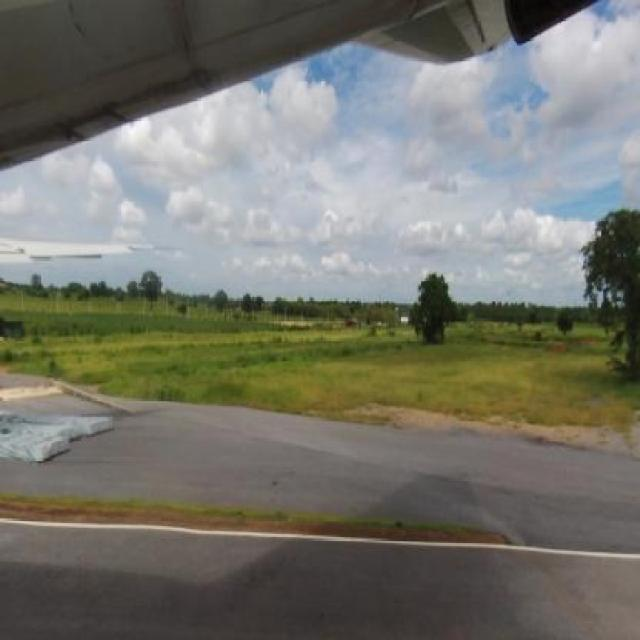Rust: (3, 64, 222, 130)
